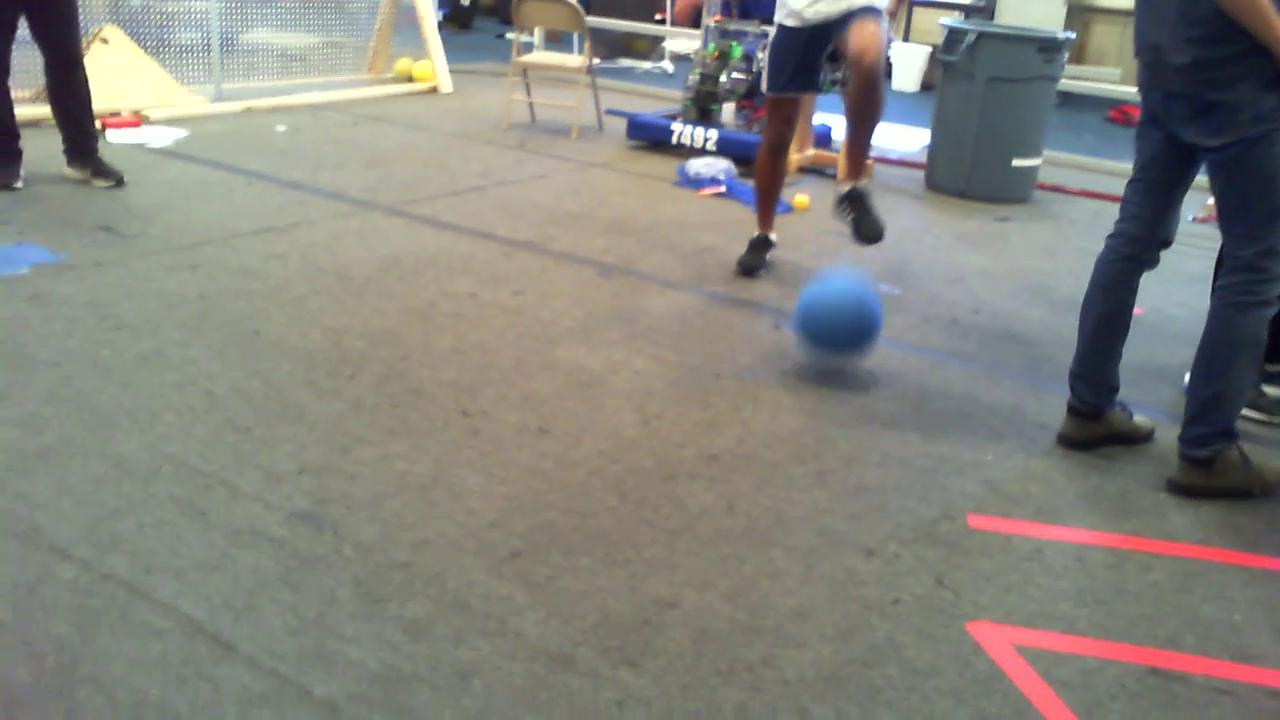robot: (633, 44, 754, 158)
